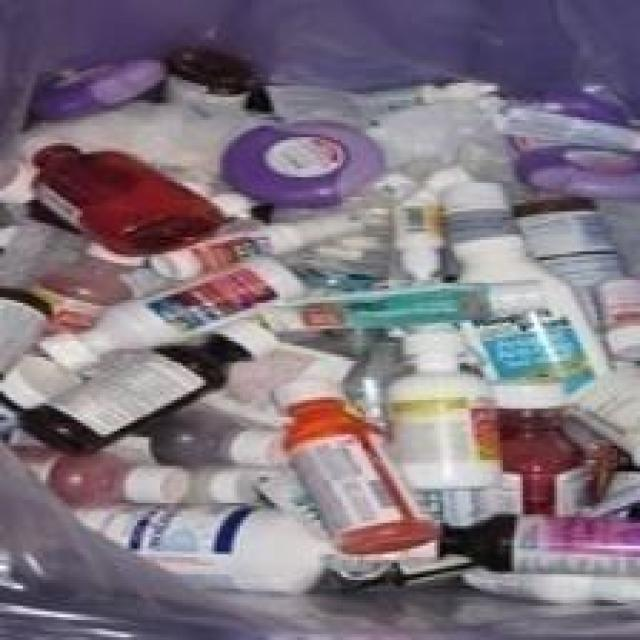Medicine: (8, 51, 640, 640)
